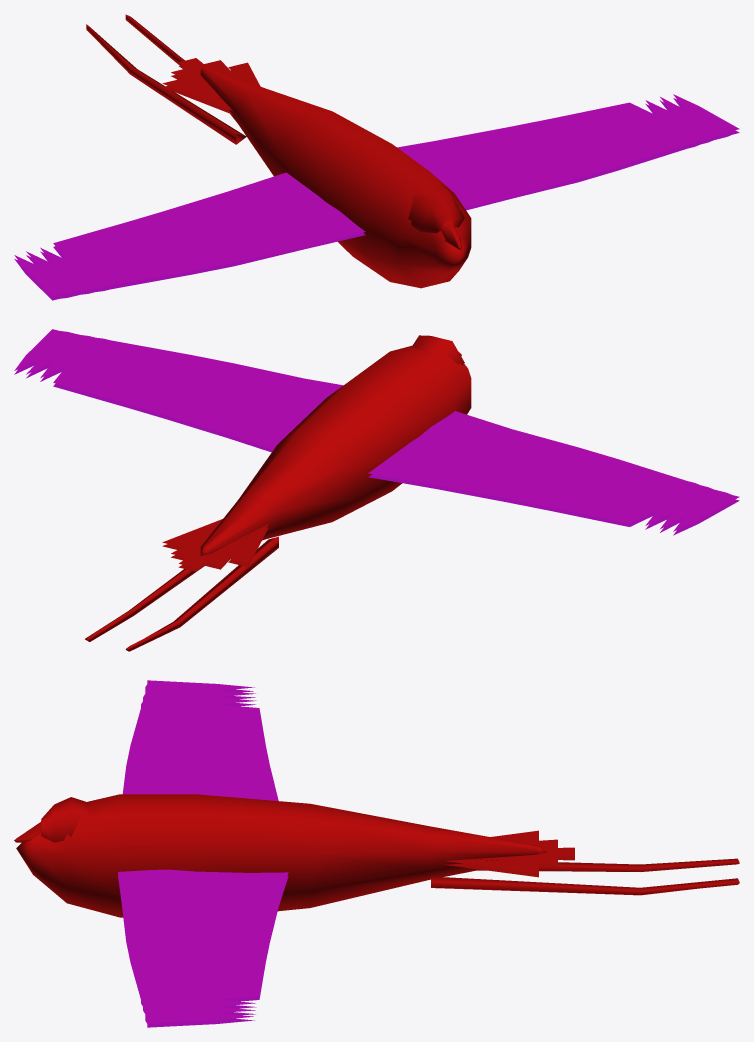
Rendered from egret.glb.
The picture shows the model from 3 angles, top to bottom: view 1: azimuth 30°, elevation 25°; view 2: azimuth 150°, elevation 25°; view 3: azimuth 270°, elevation 25°; orthographic projection. The views are drawn at different scales.
Visible parts, largest first — view 1: bird; view 2: bird; view 3: bird.
Part boxes in pixels (<box>): bird: <box>14,14,739,300</box>; bird: <box>14,329,739,651</box>; bird: <box>14,680,739,1027</box>.
Bounding box in the file's own units: 1.5 × 0.2148 × 1.34.
